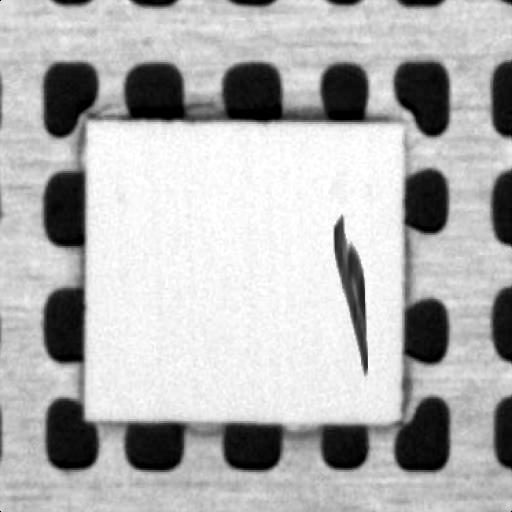DIE_INK: (331, 208, 368, 384)
